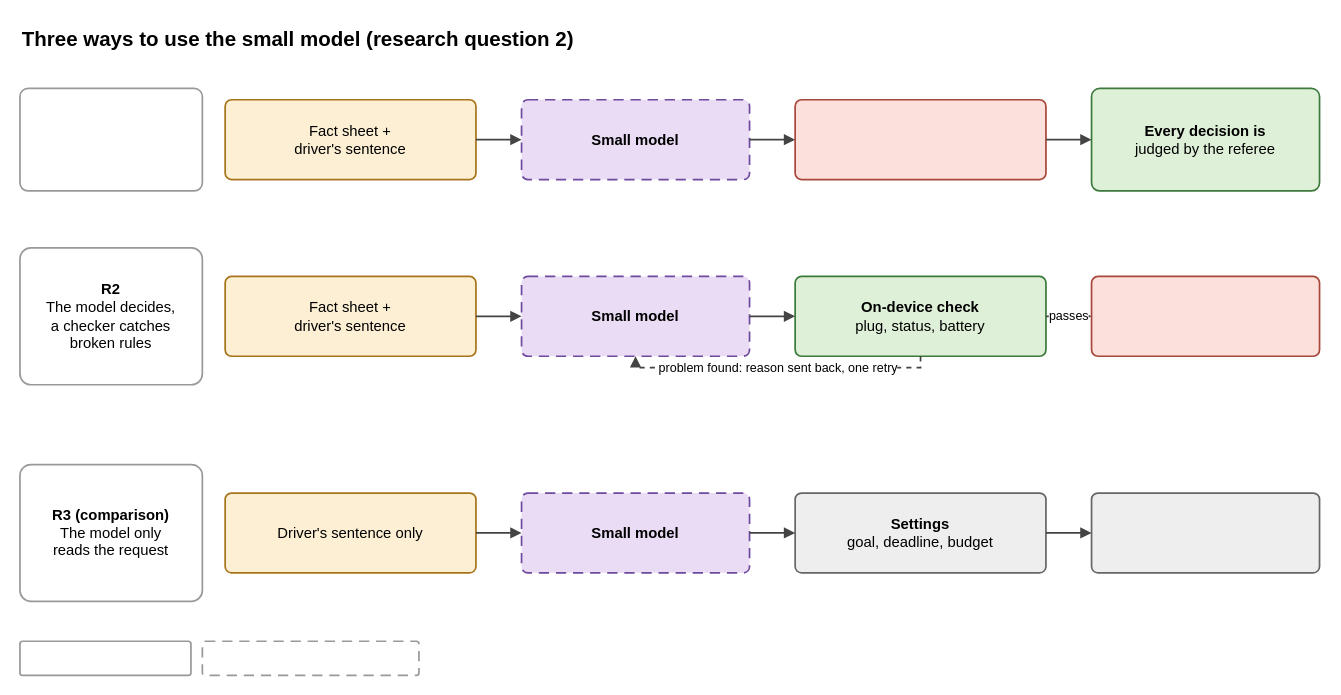
The diagram is 1341 pixels wide and 695 high, and some of its shapes have lost their labels. The box of each missing label's shape, as (x1, y1, x2, y2) in pixels:
Decision: (1090, 275, 1320, 357)
Decision charge? where? to what %?: (794, 98, 1046, 180)
Done and tested: (19, 640, 191, 676)
Fixed planner decides: (1090, 492, 1320, 573)
R1 The model decides alone: (19, 87, 203, 191)
Ready, not yet run / planned: (201, 640, 419, 676)
